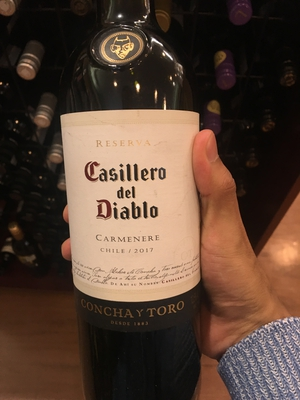casillero del diablo carmenere: (60, 9, 220, 400)
